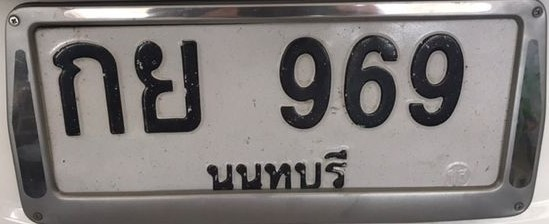txt01: (52, 39, 128, 139)
txt29: (132, 37, 203, 135)
